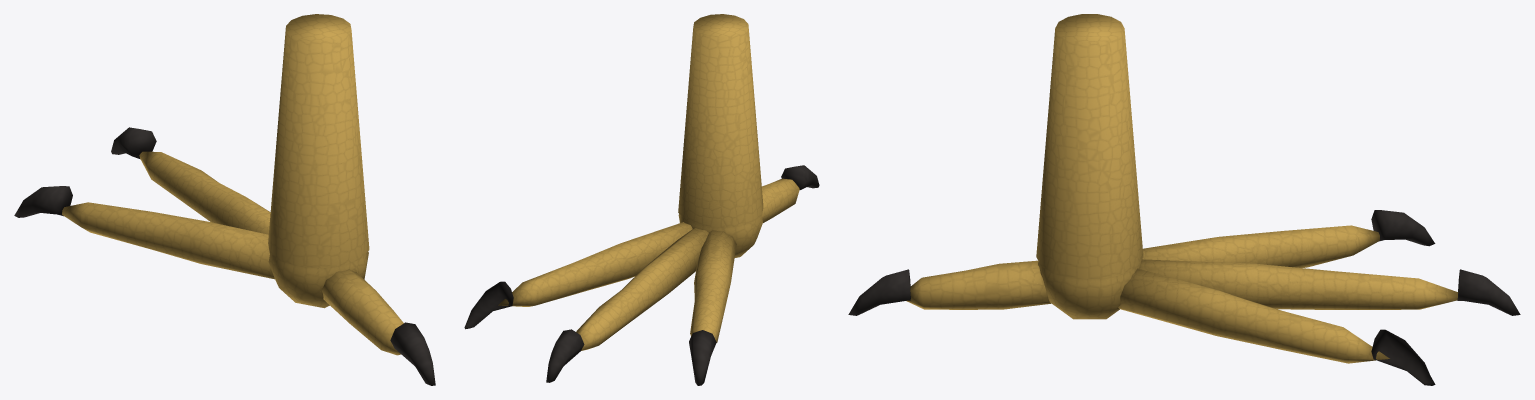
The model's file is cpart_foot_talon.glb.
The picture shows the model from 3 angles, left to right: view 1: azimuth 30°, elevation 25°; view 2: azimuth 150°, elevation 25°; view 3: azimuth 270°, elevation 25°; orthographic projection. The views are drawn at different scales.
Visible parts, largest first — view 1: FootTalon, Talons; view 2: FootTalon, Talons; view 3: FootTalon, Talons.
Boxes of the visible parts, x1,y1,x2,y2 form: FootTalon: (62,14,403,355); Talons: (14,127,435,385); FootTalon: (498,14,799,350); Talons: (464,165,819,385); FootTalon: (906,14,1458,363); Talons: (848,210,1520,385).
Bounding box in the file's own units: 0.1079 × 0.1001 × 0.2132.
2 materials, 2 textured.
